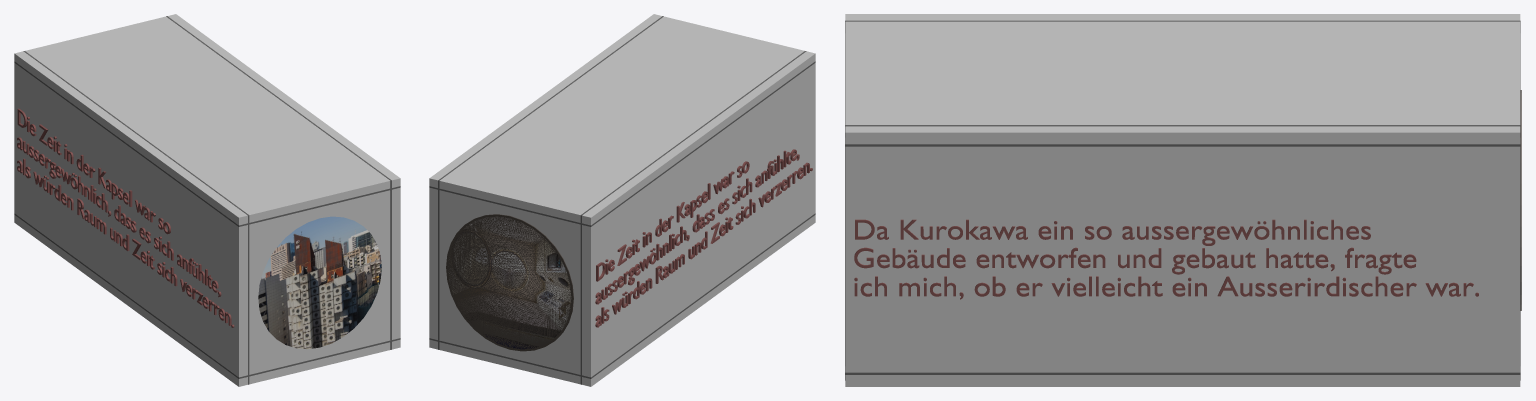
Rendered from würfelblend2.glb.
3 renders of one model, left to right at view 1: azimuth 30°, elevation 25°; view 2: azimuth 150°, elevation 25°; view 3: azimuth 270°, elevation 25°, orthographic. The views are drawn at different scales.
Parts seen in each view (by area): view 1: Cube.003, Circle.001, Text.001, Cube.001, Cube.002, Cube.006, Cube; view 2: Cube.003, Circle, Text.001, Cube.001, Cube.002, Cube.006, Cube; view 3: Cube.003, Text, Cube.002, Cube.001, Cube, Cube.006.
Boxes of the visible parts, x1,y1,x2,y2 form: Cube.003: (14,14,400,386); Circle.001: (258,216,381,349); Text.001: (17,108,234,327); Cube.001: (14,213,400,378); Cube.002: (14,61,400,226); Cube.006: (23,51,249,384); Cube: (166,16,391,349); Cube.003: (429,14,815,386); Circle: (446,214,573,351); Text.001: (595,149,812,327); Cube.001: (429,213,815,378); Cube.002: (429,61,815,226); Cube.006: (580,51,806,384); Cube: (438,16,663,349); Cube.003: (845,14,1520,386); Text: (854,219,1478,299); Cube.002: (845,33,1520,146); Cube.001: (845,366,1520,374); Cube: (845,125,1520,380); Cube.006: (845,20,1520,32).
Bounding box in the file's own units: 2.03 × 2 × 4.83.
Materials: 5 (2 with a texture image).
